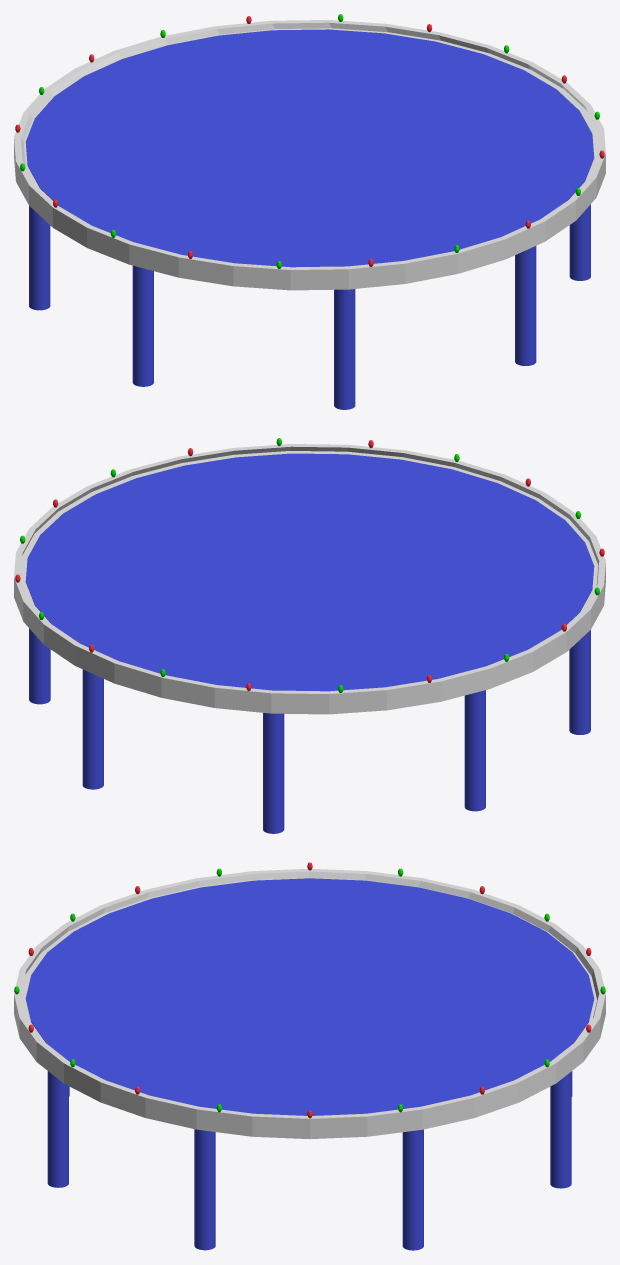
The model's file is LandingPad.fbx.
3 renders of one model, top to bottom at view 1: azimuth 30°, elevation 25°; view 2: azimuth 150°, elevation 25°; view 3: azimuth 270°, elevation 25°, orthographic.
Visible parts, largest first — view 1: pad_surface, LandingPad, column.005, column.001, column.004, column.003, column.006; view 2: pad_surface, LandingPad, column.002, column.003, column, column.001, column.007; view 3: pad_surface, LandingPad, column.007, column.006, column, column.004.
Part boxes in pixels (x1,y1,x2,y2): pad_surface: (25, 29, 594, 267); LandingPad: (14, 20, 605, 290); column.005: (334, 289, 355, 409); column.001: (132, 266, 153, 386); column.004: (515, 246, 536, 365); column.003: (29, 206, 50, 310); column.006: (569, 204, 590, 280); pad_surface: (25, 453, 594, 691); LandingPad: (14, 444, 605, 714); column.002: (263, 713, 284, 833); column.003: (464, 690, 485, 811); column: (82, 669, 103, 789); column.001: (569, 630, 590, 734); column.007: (29, 628, 50, 704); pad_surface: (25, 878, 594, 1115); LandingPad: (14, 868, 605, 1139); column.007: (402, 1129, 423, 1250); column.006: (194, 1129, 215, 1250); column: (550, 1071, 571, 1188); column.004: (47, 1071, 68, 1187).
Size of the model in its own units: 5536 by 1579 by 5536.
